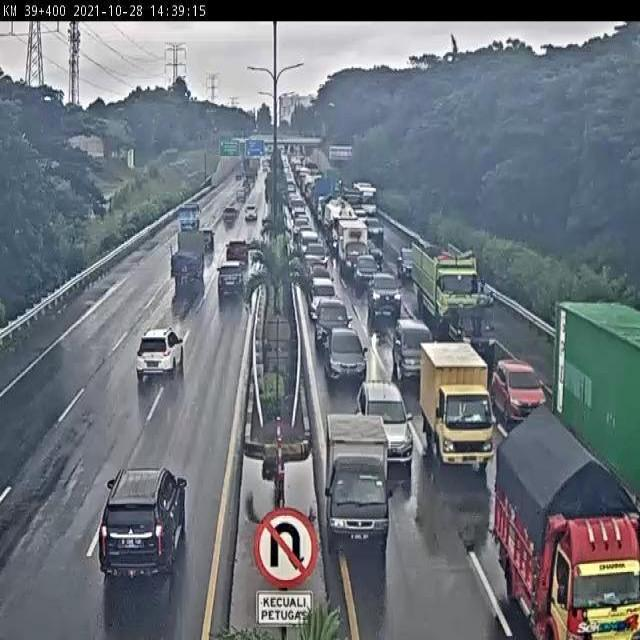car: (87, 459, 203, 583), (357, 361, 425, 471), (489, 352, 552, 440), (127, 326, 190, 390), (322, 323, 369, 387), (388, 312, 431, 380), (442, 296, 493, 353), (315, 296, 353, 355), (213, 259, 254, 304), (367, 271, 403, 317), (220, 237, 259, 275), (216, 206, 238, 234), (242, 203, 262, 228)
truck: (469, 377, 635, 640), (539, 281, 640, 539), (315, 393, 397, 543), (410, 333, 492, 475), (407, 232, 478, 329), (159, 219, 215, 300), (176, 200, 210, 235)
